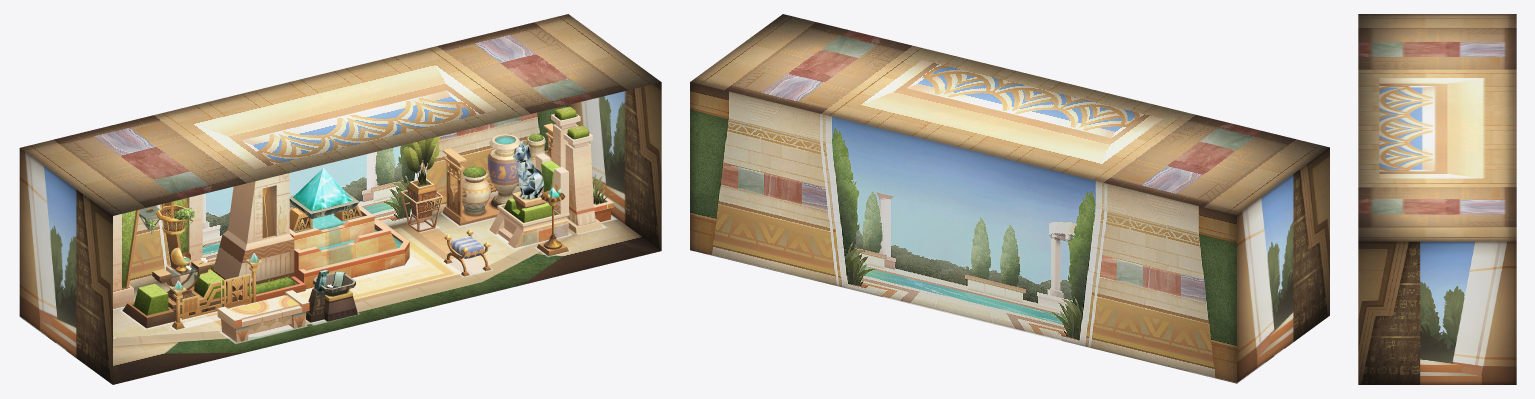
File: citizengarden.glb
3 renders of one model, left to right at view 1: azimuth 30°, elevation 25°; view 2: azimuth 150°, elevation 25°; view 3: azimuth 270°, elevation 25°, orthographic. The views are drawn at different scales.
Parts seen in each view (by area): view 1: ROOM_room, ROOM_floor, furni_citizengarden_fourtain_01, furni_citizengarden_jewelcat_01, furni_citizengarden_plantwall_01, furni_citizengarden_vaseshelf_01, furni_citizengarden_cutoff_01, furni_citizengarden_shelf_01, furni_citizengarden_bench_01, furni_citizengarden_sink_01, furni_citizengarden_fense_02, ROOM_RDoor (+8 smaller); view 2: ROOM_room, ROOM_LDoor; view 3: ROOM_room, ROOM_RDoor, shadow_01.007.
Part boxes in pixels (x1=…): ROOM_room: x1=19, y1=14, x2=661, y2=384; ROOM_floor: x1=113, y1=214, x2=660, y2=384; furni_citizengarden_fourtain_01: x1=208, y1=168, x2=409, y2=304; furni_citizengarden_jewelcat_01: x1=489, y1=140, x2=569, y2=248; furni_citizengarden_plantwall_01: x1=113, y1=194, x2=202, y2=308; furni_citizengarden_vaseshelf_01: x1=442, y1=123, x2=552, y2=225; furni_citizengarden_cutoff_01: x1=551, y1=114, x2=613, y2=233; furni_citizengarden_shelf_01: x1=122, y1=247, x2=236, y2=328; furni_citizengarden_bench_01: x1=217, y1=290, x2=309, y2=342; furni_citizengarden_sink_01: x1=306, y1=269, x2=357, y2=322; furni_citizengarden_fense_02: x1=170, y1=253, x2=262, y2=319; ROOM_RDoor: x1=628, y1=150, x2=647, y2=240; ROOM_room: x1=690, y1=14, x2=1329, y2=383; ROOM_LDoor: x1=1297, y1=249, x2=1316, y2=339; ROOM_room: x1=1358, y1=14, x2=1516, y2=384; ROOM_RDoor: x1=1381, y1=319, x2=1413, y2=384; shadow_01.007: x1=1516, y1=229, x2=1518, y2=303.
Bounding box in the file's own units: 7.53 × 2.2 × 2.26.
Materials: 7 (7 with a texture image).
